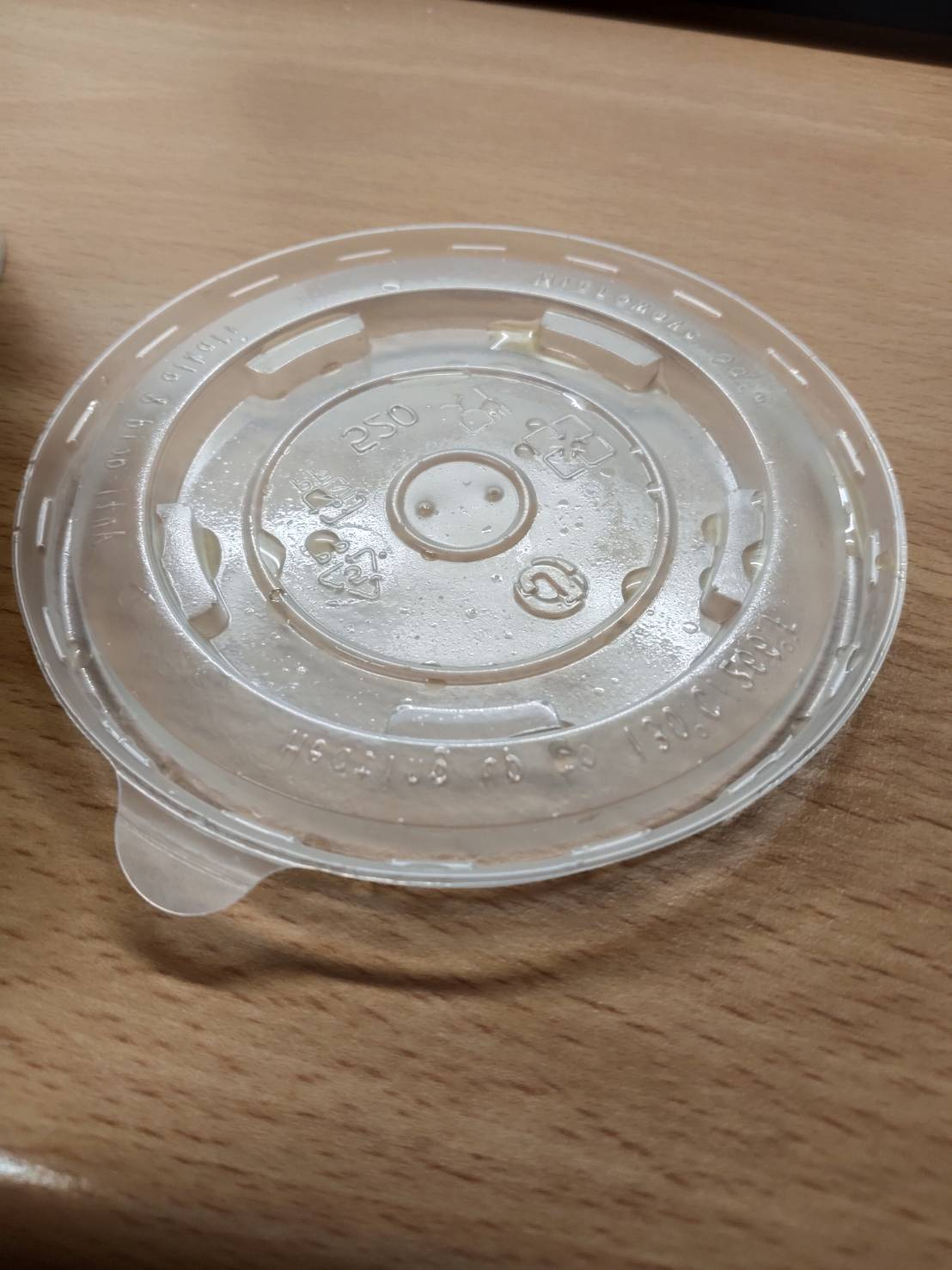plastic: (0, 195, 952, 966)
